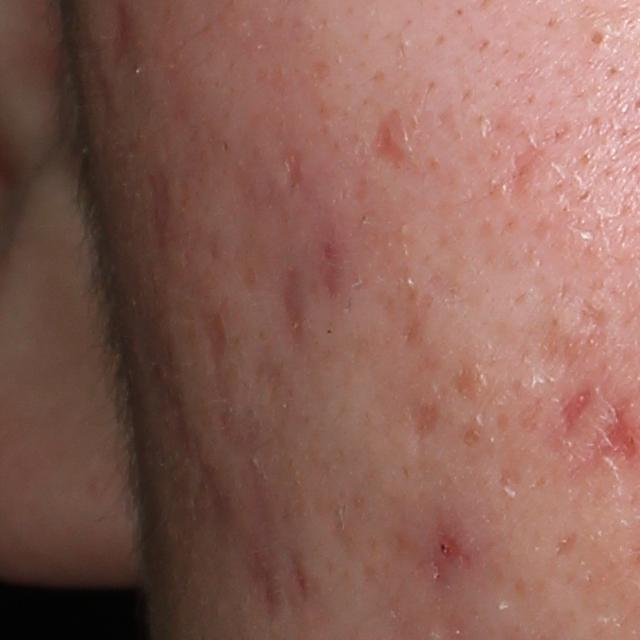atrophic_scar: (530, 300, 617, 379), (498, 140, 555, 208), (591, 400, 638, 466), (141, 166, 172, 245), (282, 267, 309, 343), (197, 307, 228, 365), (557, 386, 592, 434), (411, 395, 442, 441), (450, 357, 481, 400), (285, 152, 306, 200), (550, 527, 577, 556)
